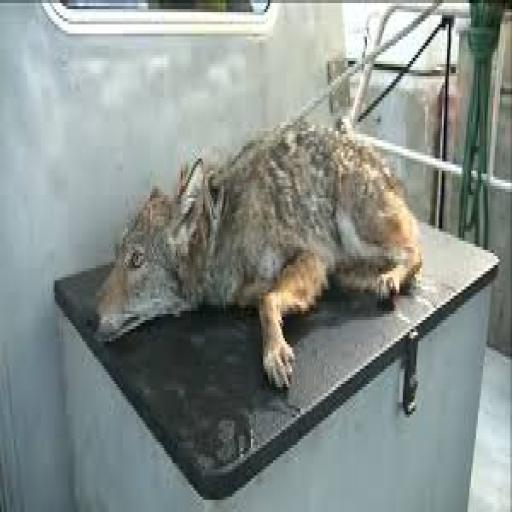wolf: (62, 65, 442, 418)
